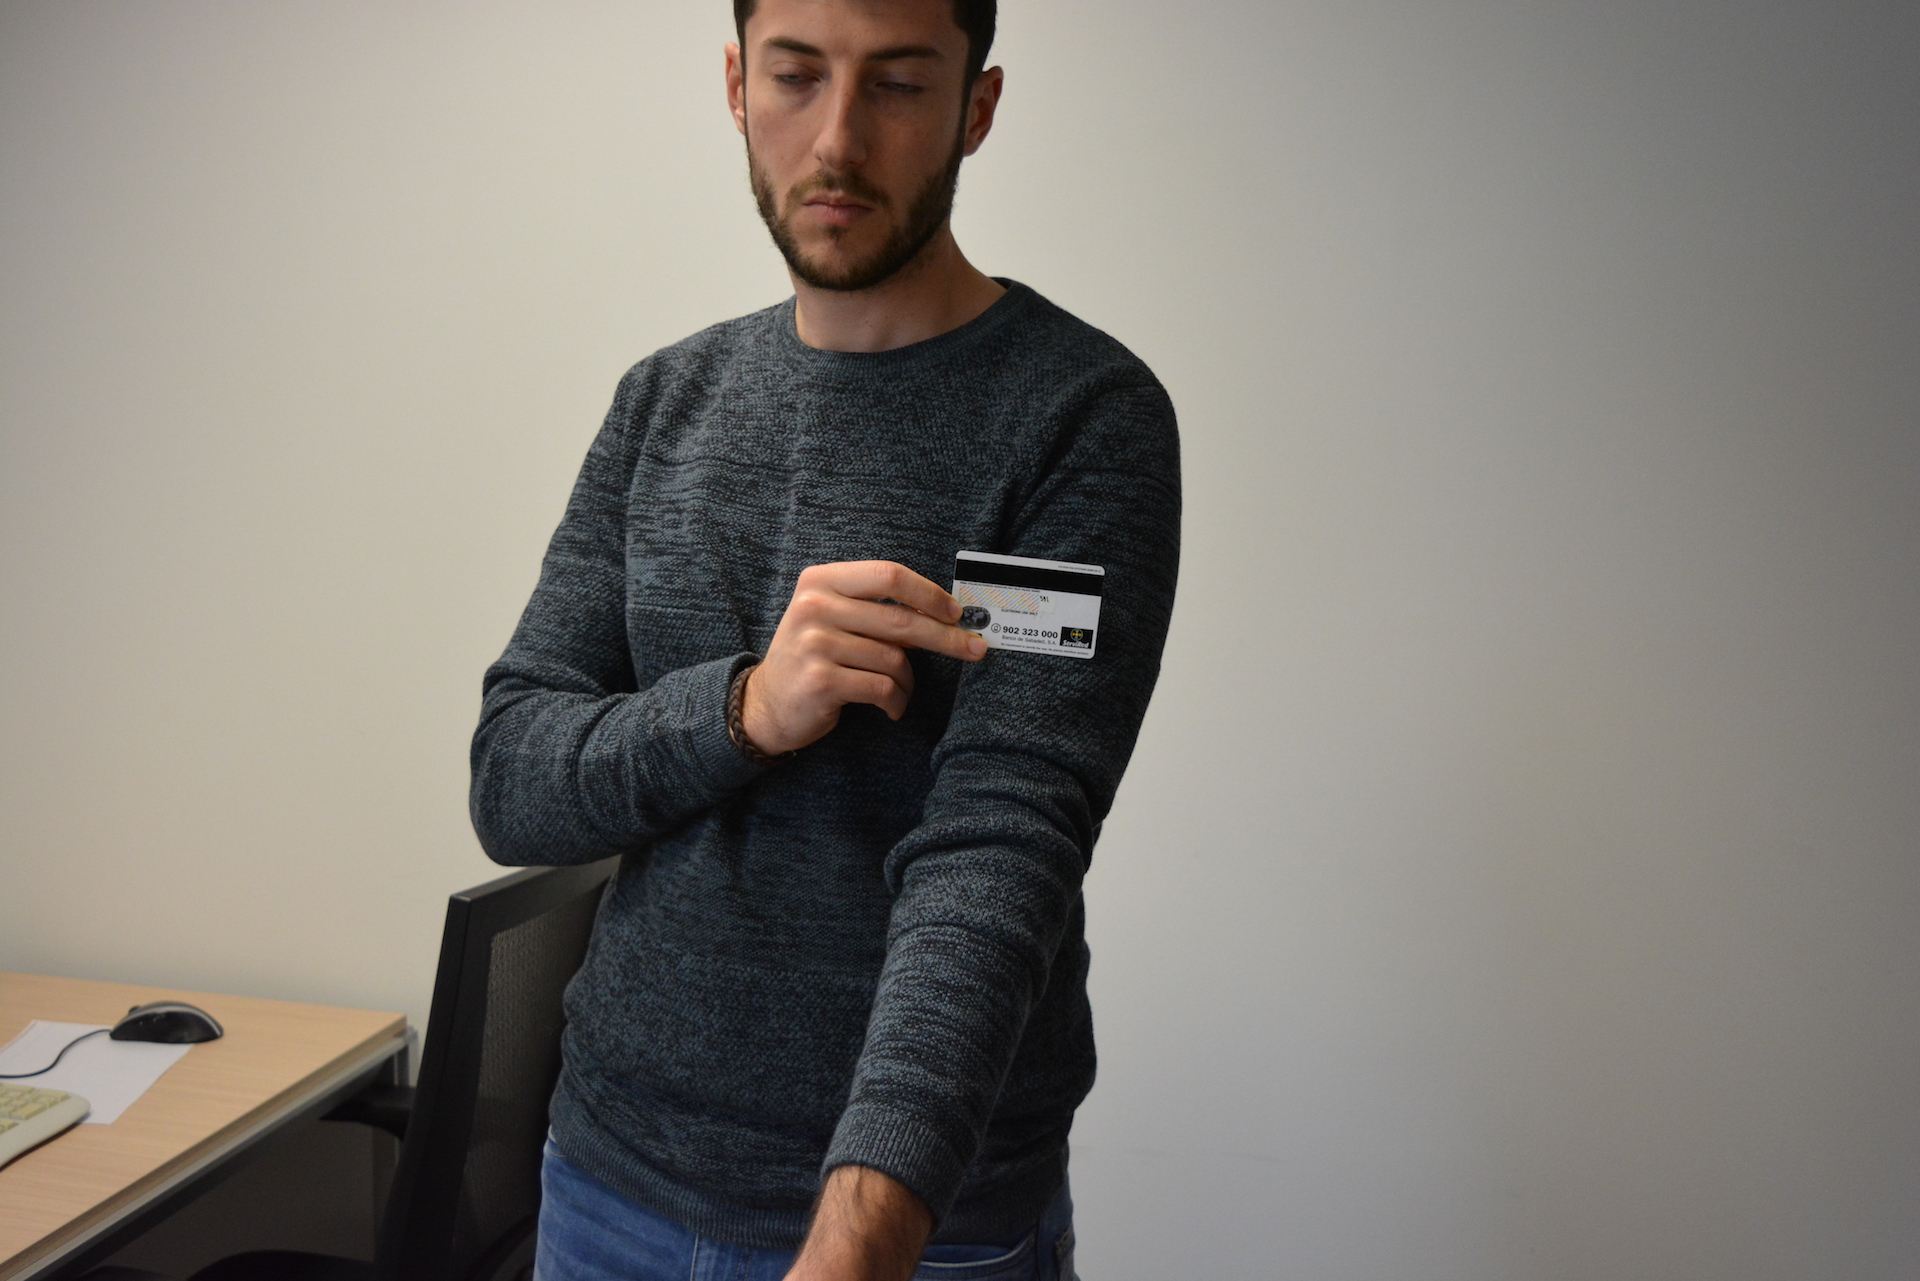tarjeta: (949, 549, 1107, 661)
